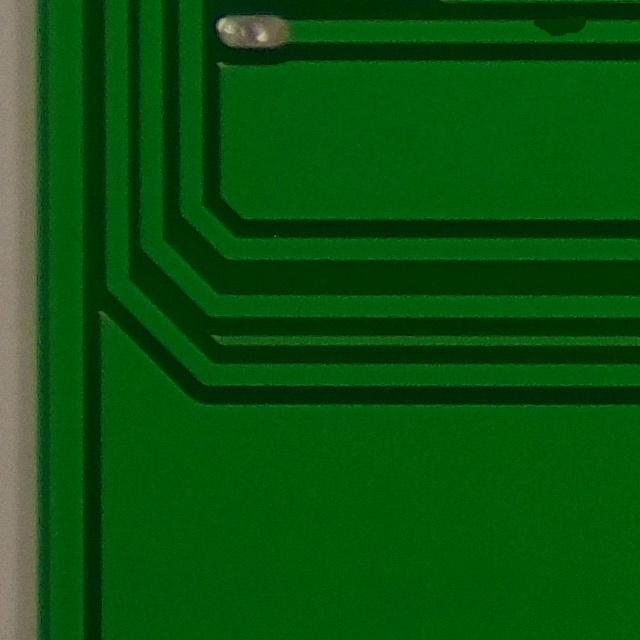mouse_bite: (520, 7, 603, 46)
